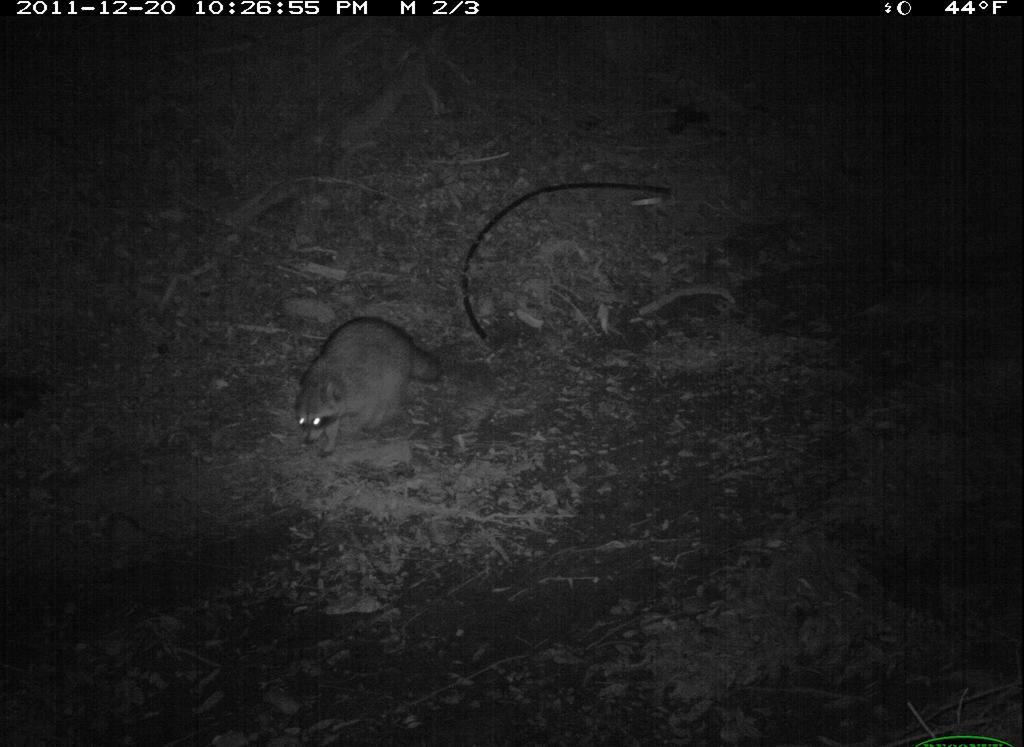raccoon: (283, 315, 456, 452)
